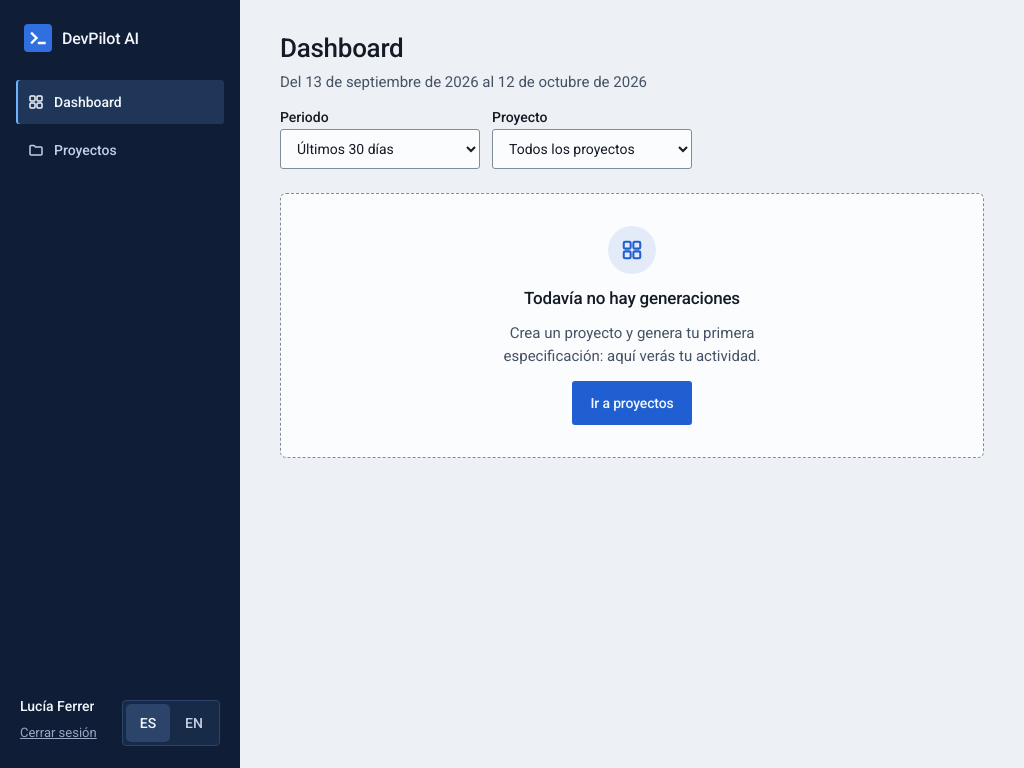
Test: the dashboard › invites to create the first generation when there is no data
Click the link "Ir a proyectos" at (632, 403), box [572, 381, 692, 425]
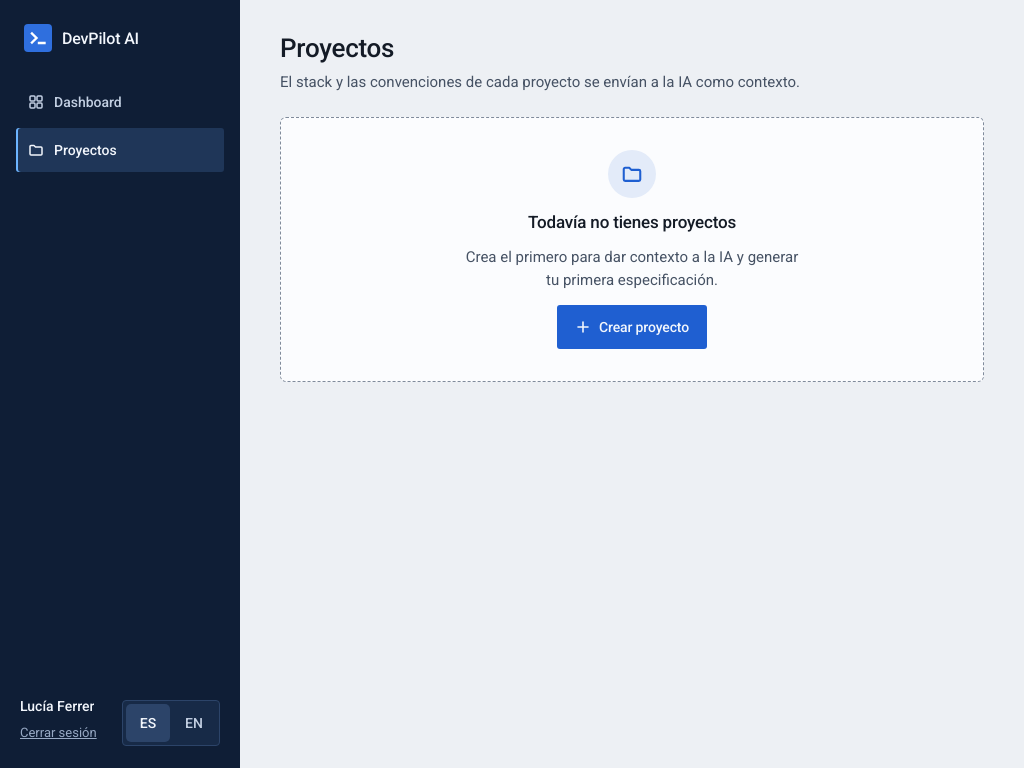
Expected: the heading "Proyectos" is shown, [280, 33, 394, 63]
